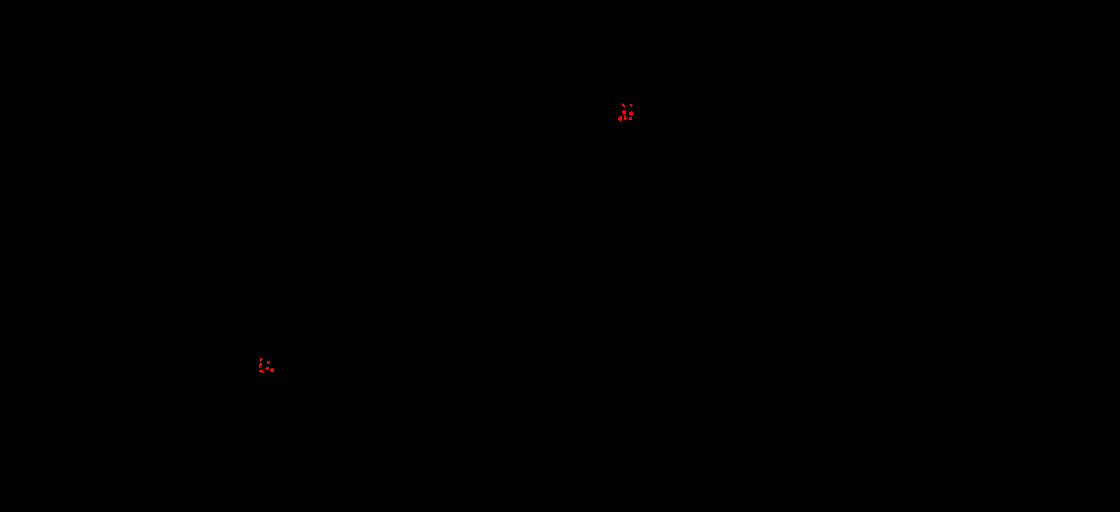Target: (622, 110, 626, 115), (618, 116, 622, 121), (629, 111, 633, 115), (270, 368, 274, 372), (259, 363, 262, 368), (622, 103, 625, 107), (624, 116, 627, 120), (265, 367, 269, 370), (259, 370, 263, 373), (630, 104, 633, 107), (629, 117, 632, 120), (260, 358, 263, 361), (267, 361, 270, 364)
